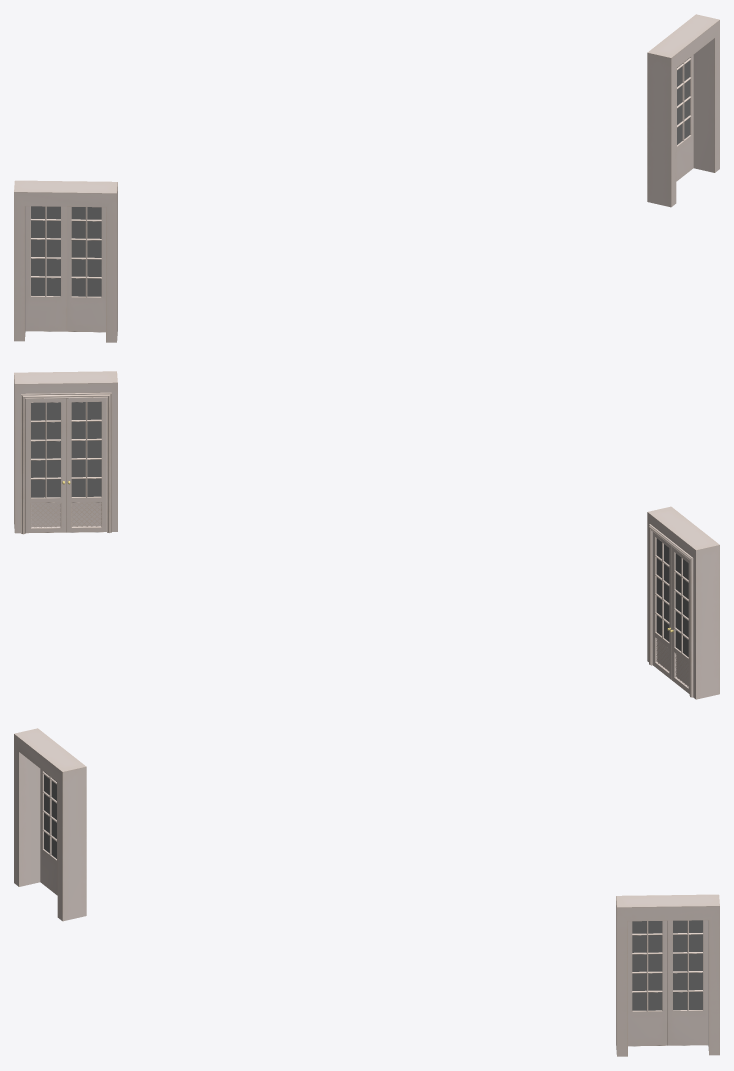
File: DoorBalconyS.fbx
The picture shows the model from 3 angles, top to bottom: view 1: azimuth 30°, elevation 25°; view 2: azimuth 150°, elevation 25°; view 3: azimuth 330°, elevation 25°; orthographic projection.
Parts seen in each view (by area): view 1: DoorBalconyS, DoorBalconySGlass; view 2: DoorBalconyS, DoorBalconySGlass; view 3: DoorBalconyS, DoorBalconySGlass.
Part boxes in pixels (box(x1,y1,x2,y2)): DoorBalconyS: box(14, 14, 719, 342); DoorBalconySGlass: box(31, 58, 689, 296); DoorBalconyS: box(14, 371, 719, 699); DoorBalconySGlass: box(31, 402, 688, 656); DoorBalconyS: box(14, 728, 719, 1056); DoorBalconySGlass: box(44, 772, 702, 1010).
Size of the model in its own units: 1503 by 304 by 143.
2 materials, 1 textured.
